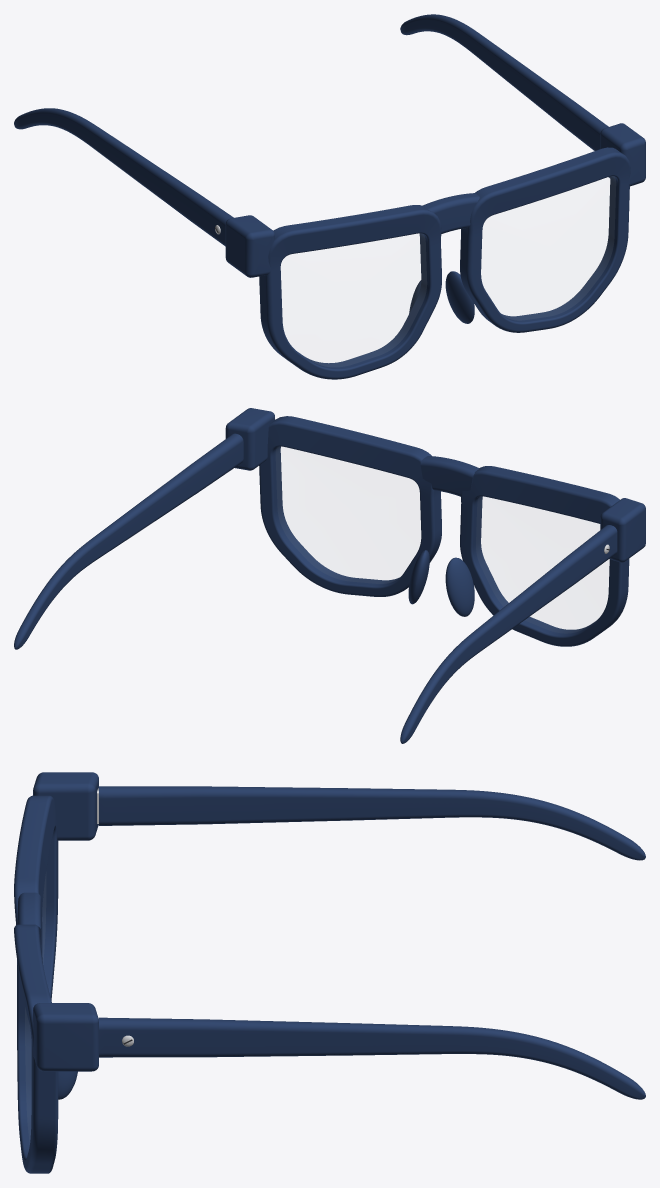
Rendered from wayfarer_azul_marino_cristal.glb.
3 renders of one model, top to bottom at view 1: azimuth 30°, elevation 25°; view 2: azimuth 150°, elevation 25°; view 3: azimuth 270°, elevation 25°, orthographic. The views are drawn at different scales.
Parts seen in each view (by area): view 1: frente, temple_R, temple_L; view 2: frente, temple_L, temple_R; view 3: frente, temple_R, temple_L.
Boxes of the visible parts, box(x1,y1,x2,y2) form: frente: box(225, 123, 645, 379); temple_R: box(14, 108, 233, 246); temple_L: box(400, 14, 608, 150); frente: box(225, 408, 645, 646); temple_L: box(14, 433, 243, 649); temple_R: box(400, 525, 617, 743); frente: box(14, 772, 98, 1173); temple_R: box(97, 786, 645, 860); temple_L: box(99, 1017, 645, 1099).
Size of the model in its own units: 0.1401 by 0.0545 by 0.1512.
